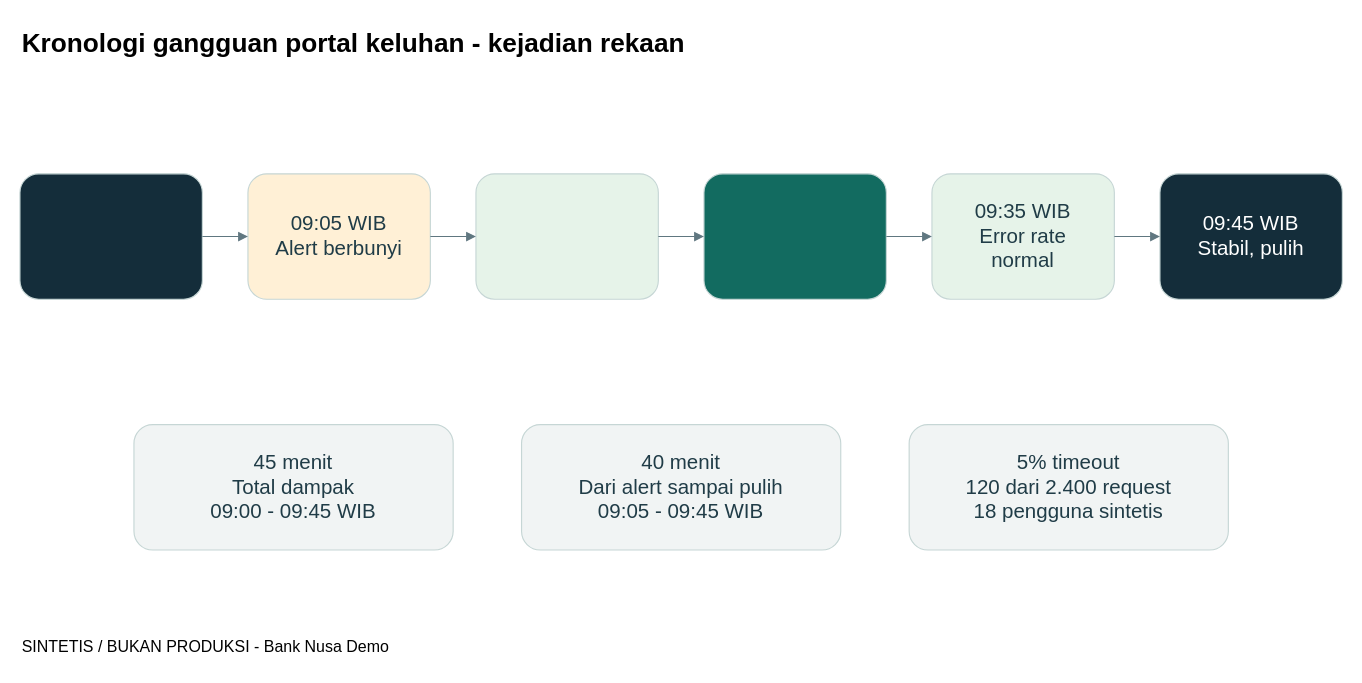
This 1362x683 diagram has some shape labels left out. The shapes that lost their labels are listed below. From the top down, each one's centre as x and y in pixels, then its label:
point 110,236: 09:00 WIB Gejala pertama
point 566,236: 09:10 WIB Insiden diumumkan
point 794,236: 09:20 WIB Polling dipulihkan
